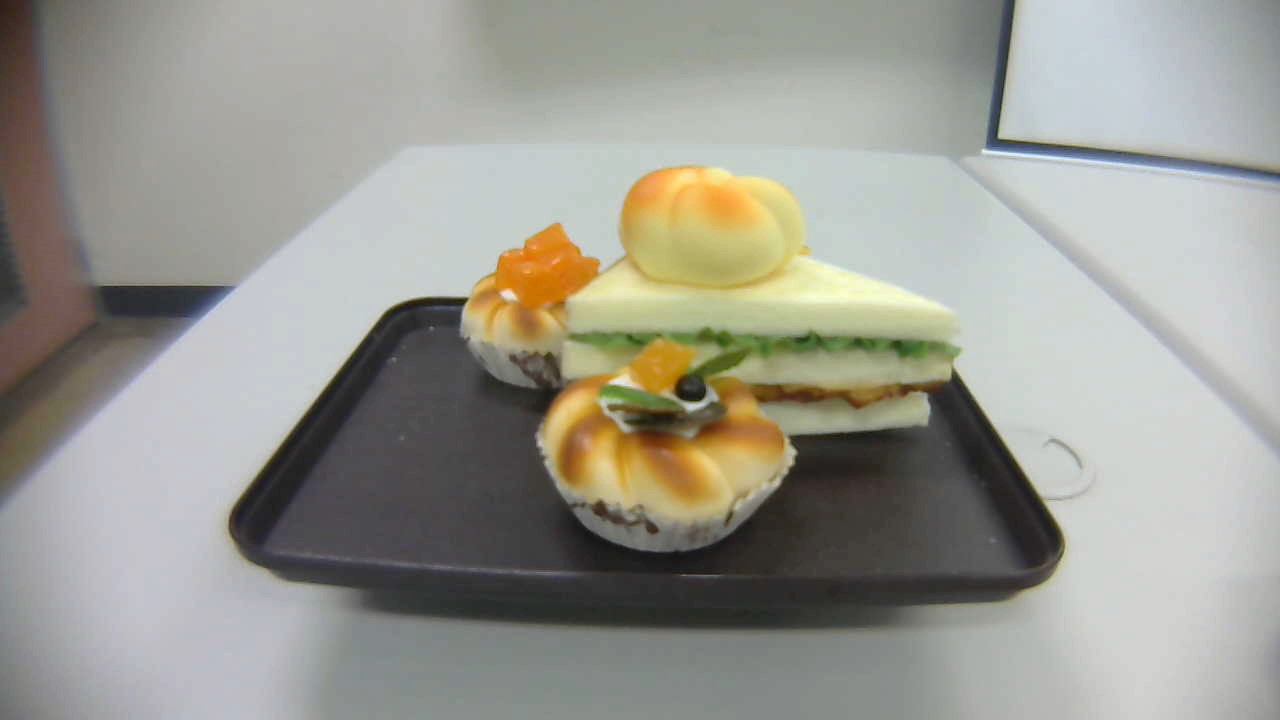fruit tart: (537, 339, 799, 556)
mango tart: (462, 222, 609, 387)
sandwich: (565, 217, 961, 431)
twist bread: (617, 163, 812, 287)
